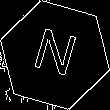N_S: (29, 25, 81, 85)
